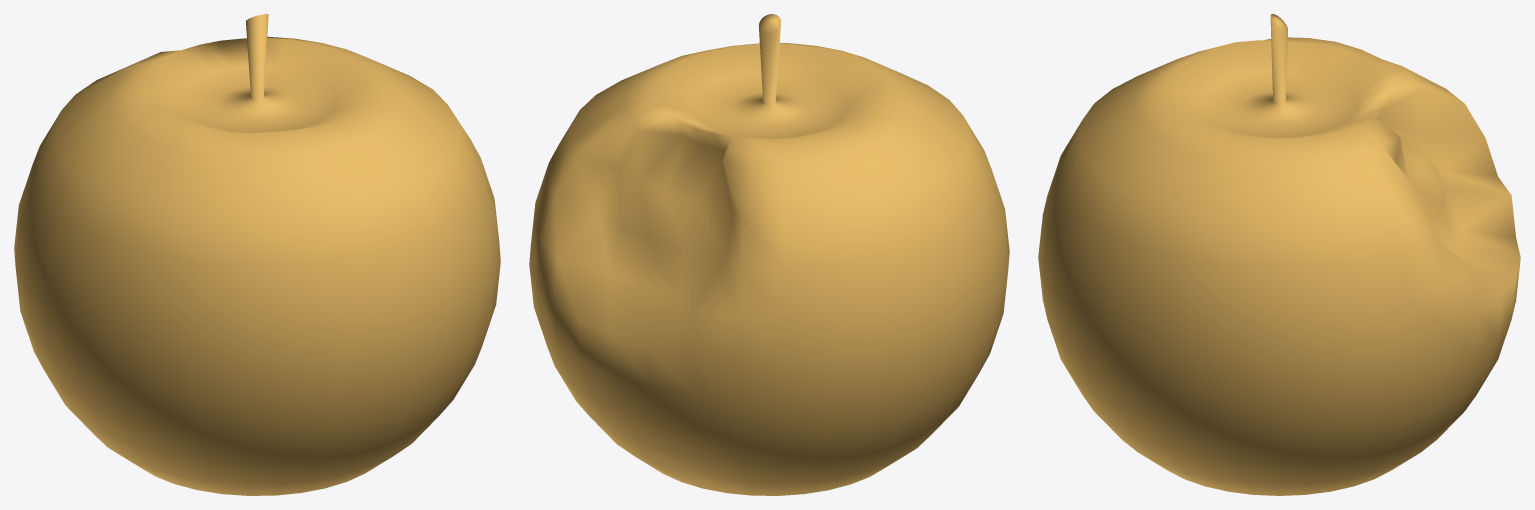
Rendered from Apple copy.glb.
The picture shows the model from 3 angles, left to right: view 1: azimuth 30°, elevation 25°; view 2: azimuth 150°, elevation 25°; view 3: azimuth 270°, elevation 25°; orthographic projection.
Visible parts, largest first — view 1: Sphere; view 2: Sphere; view 3: Sphere.
Part boxes in pixels (<box>): Sphere: <box>14,14,500,495</box>; Sphere: <box>529,14,1009,495</box>; Sphere: <box>1038,14,1520,495</box>.
Bounding box in the file's own units: 2 × 1.99 × 2.
